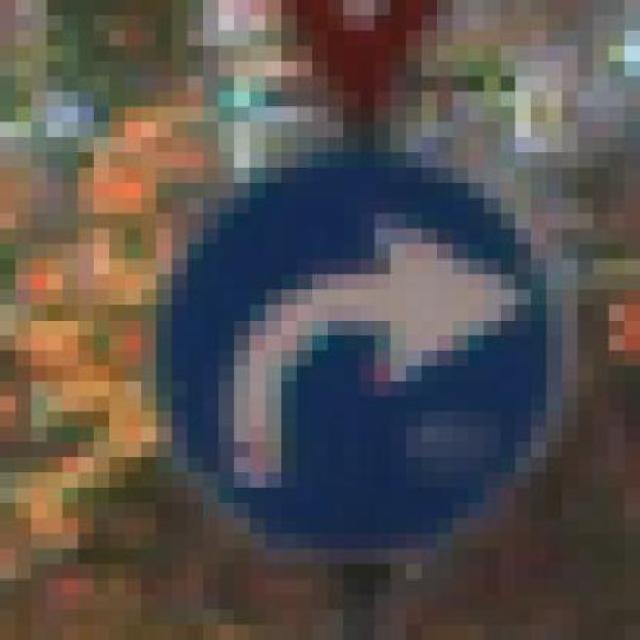Turn right ahead: (125, 122, 578, 580)
